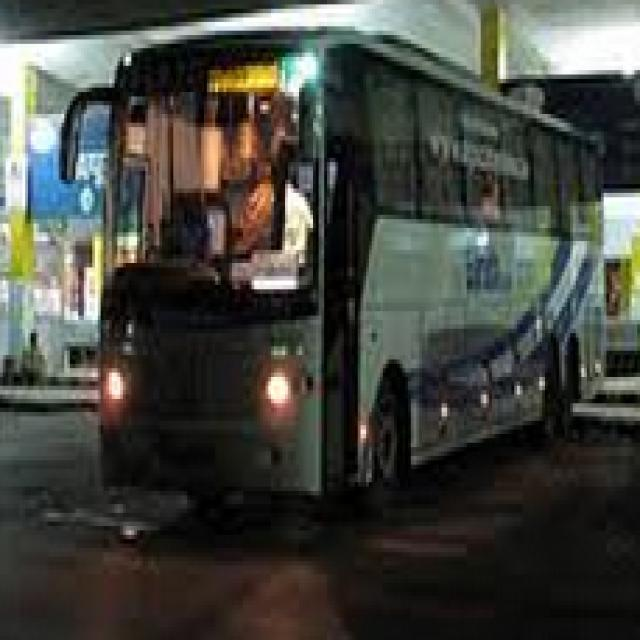bus_front: (56, 18, 614, 525)
